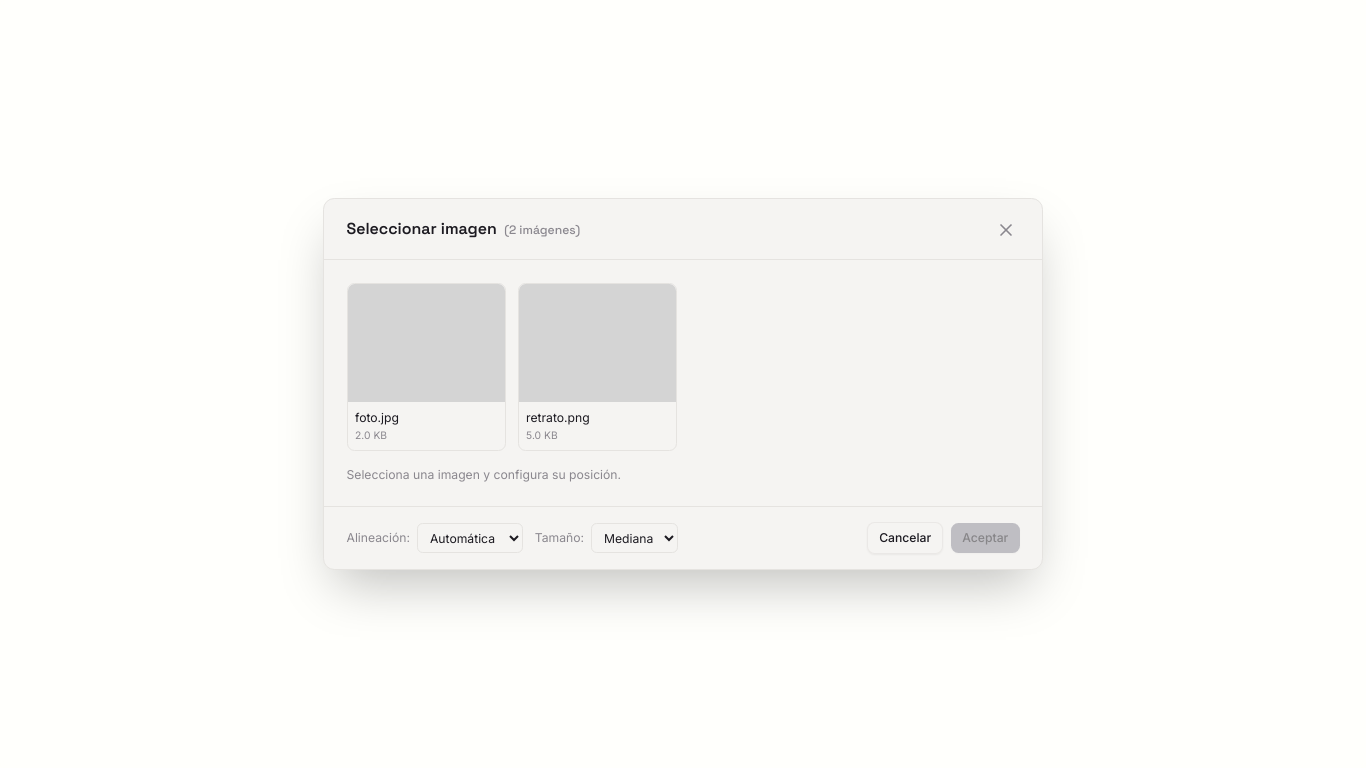
ImagePicker › clicking delete opens the confirmation dialog with the image name
Step 1. Click the button "foto.jpg 2.0 KB" → (426, 367), box 346,282 -> 506,451
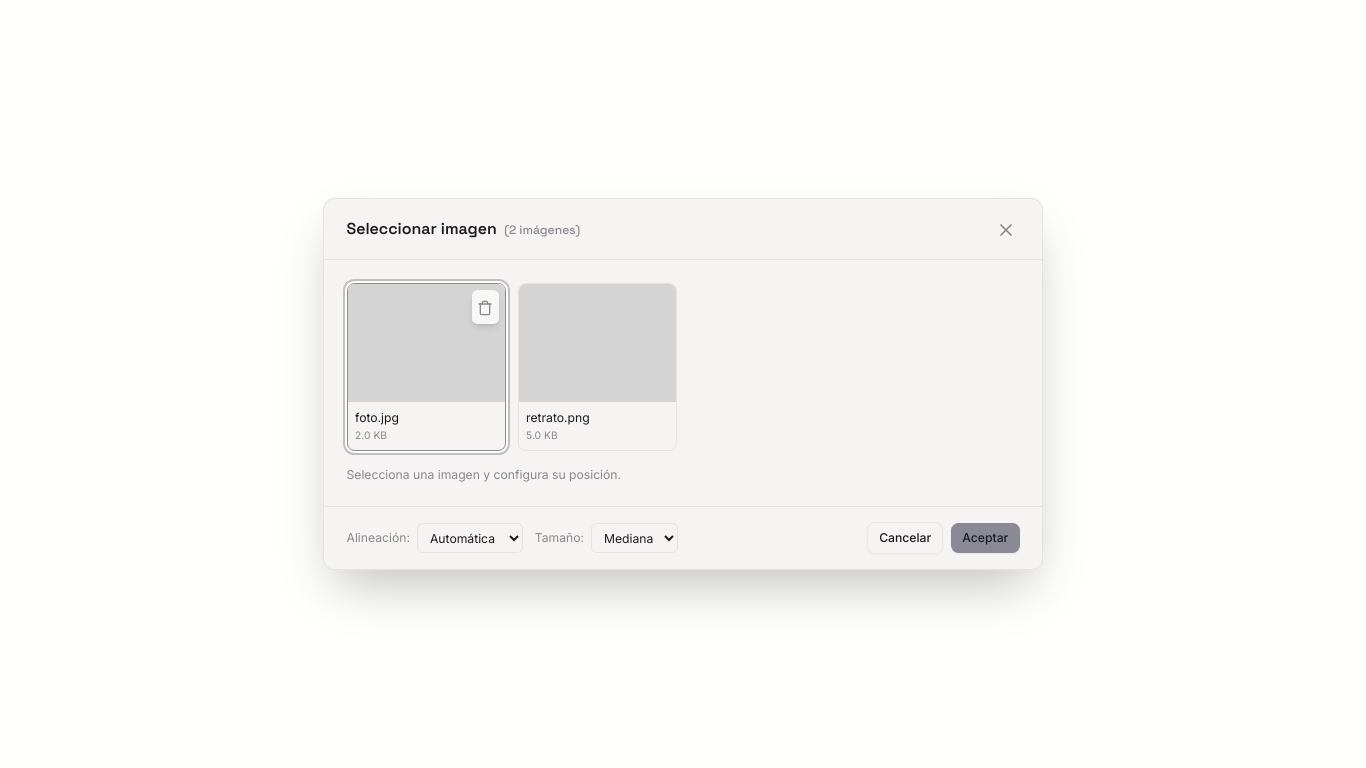
Step 2. Click the button named "Eliminar foto.jpg" → (485, 307), box 472,290 -> 499,324
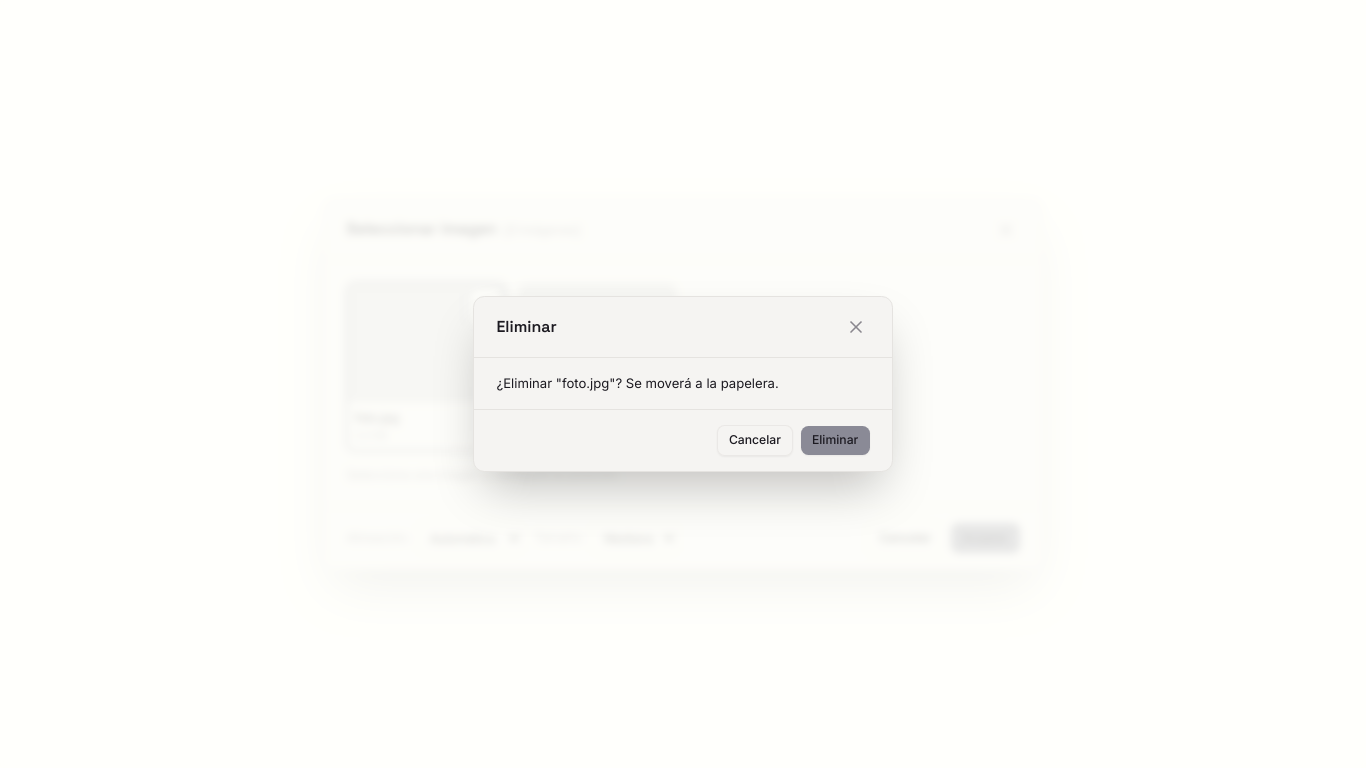
Expected: the dialog "Eliminar" shows "¿Eliminar \"foto.jpg\"? Se moverá a la papelera.", 496,375 -> 779,391
Expected: the button "Eliminar" is shown, 801,426 -> 870,455
Expected: the button "Cancelar" is shown, 717,425 -> 793,456
